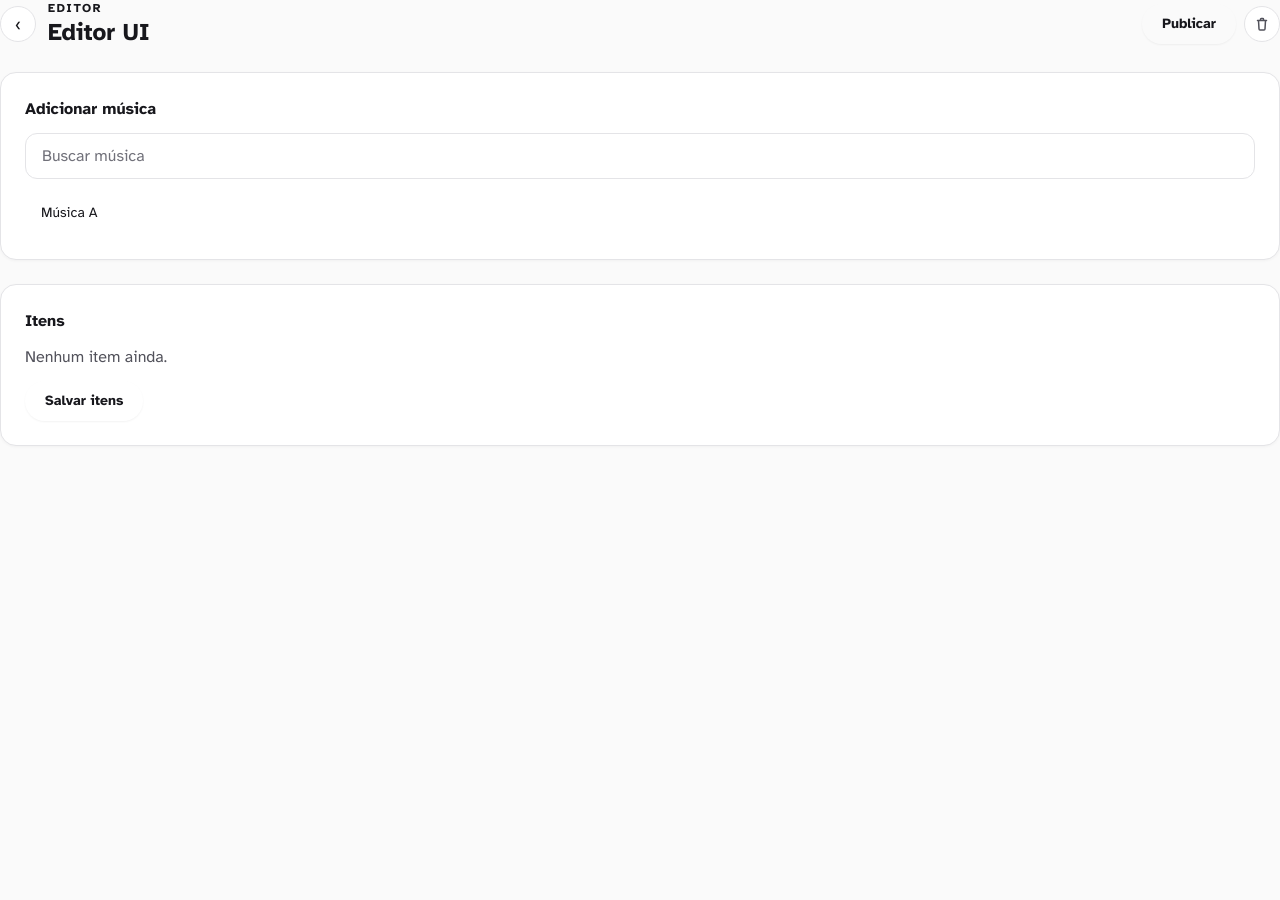
Test: SetlistEditor › validates empty note text
Click the button "Música A": (69, 212) [29,191,620,235]
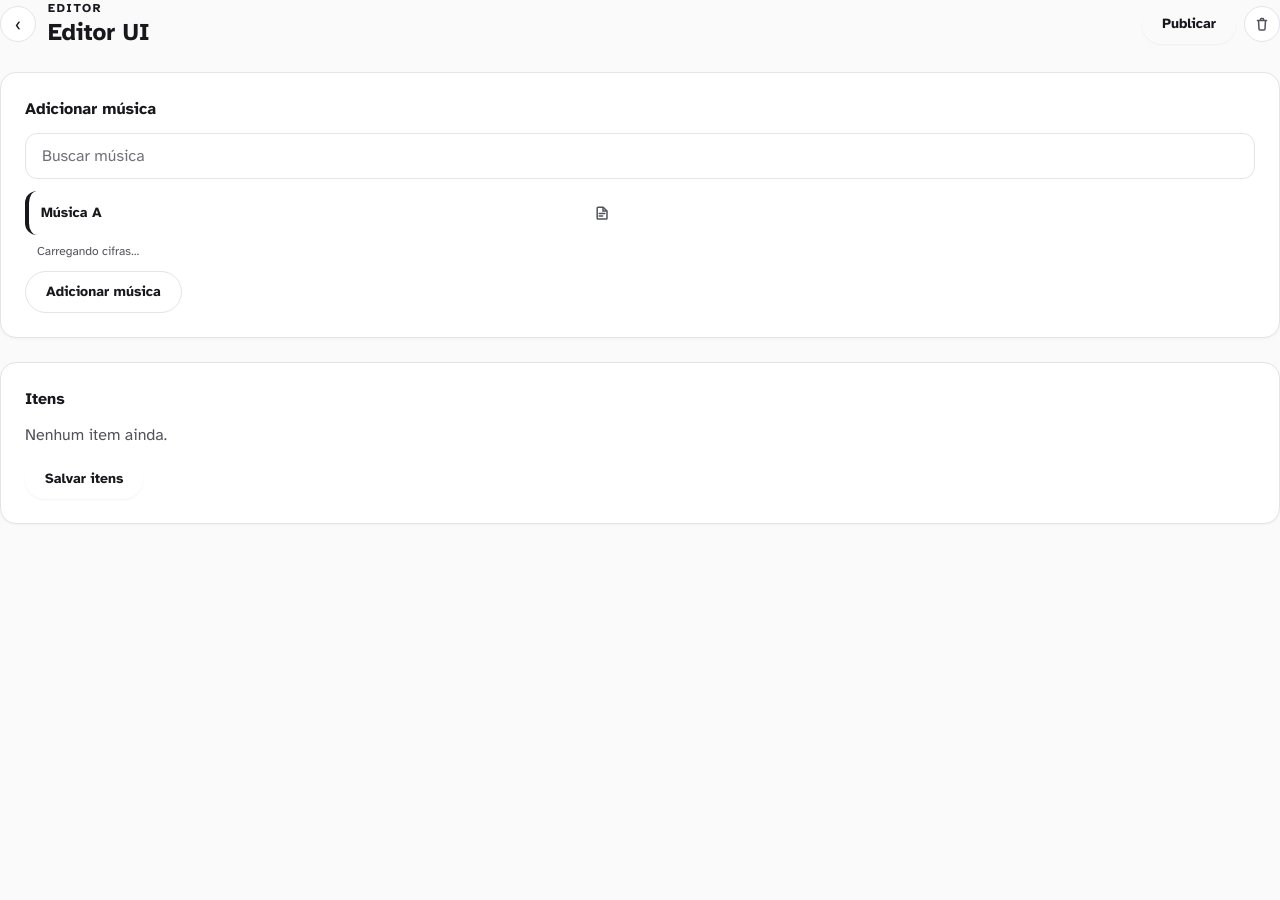
Click the button named "Anotação de Música A": (602, 213) [584,195,620,231]
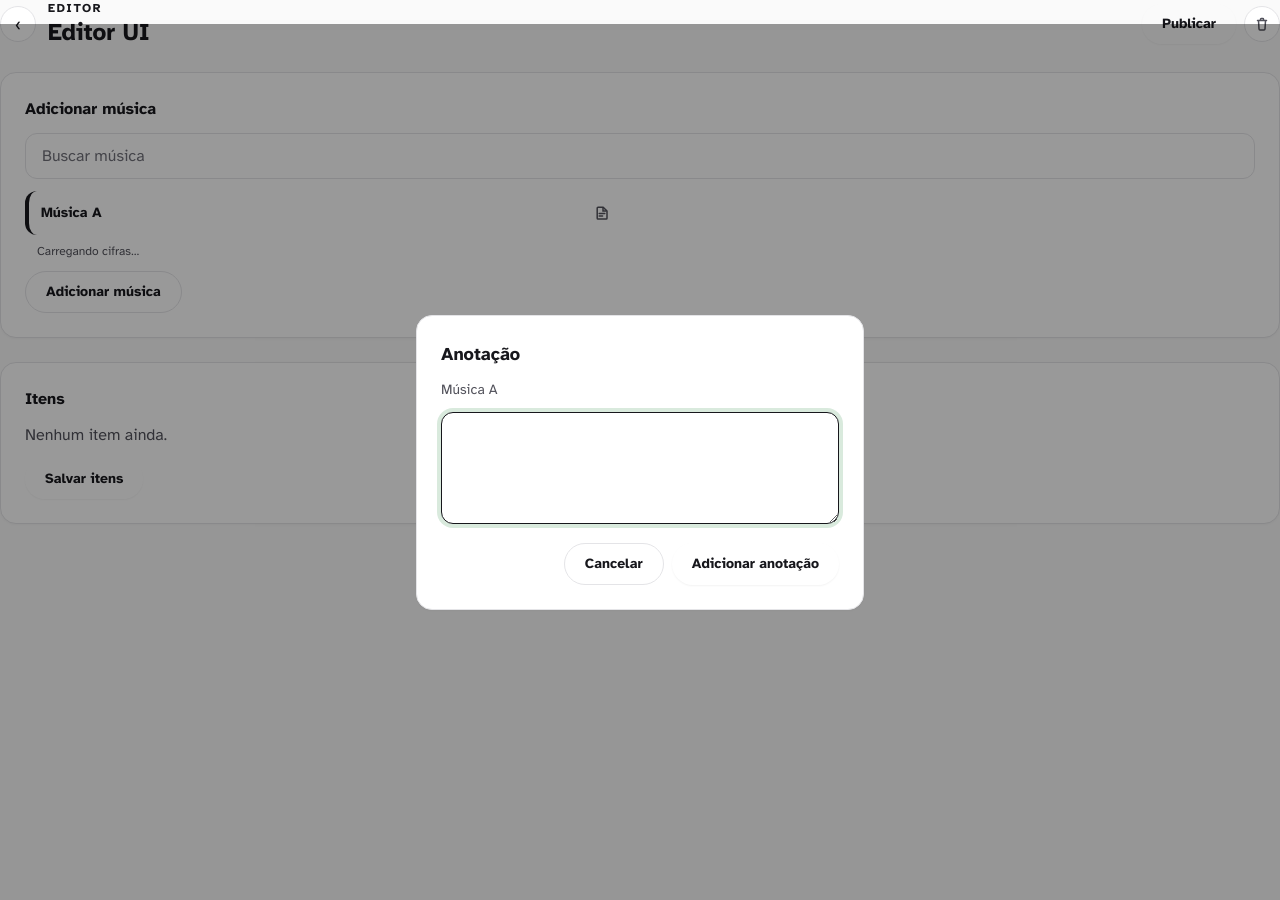
Click the button "Adicionar anotação": (755, 564) [672,542,839,584]
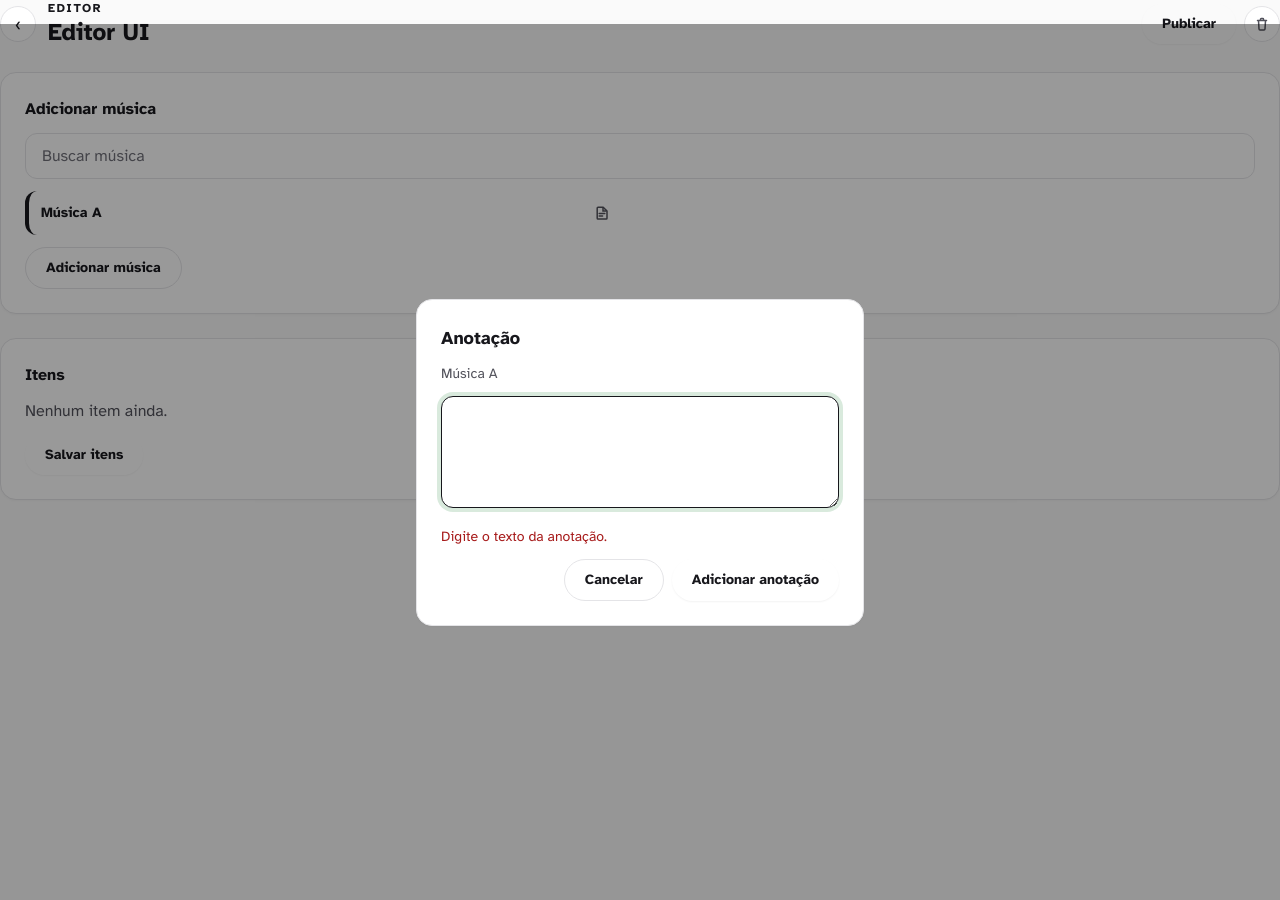
Expected: the message reads "Digite o texto da anotação.", [441,528,607,544]
